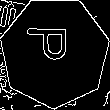P_E: (30, 33, 80, 71)
